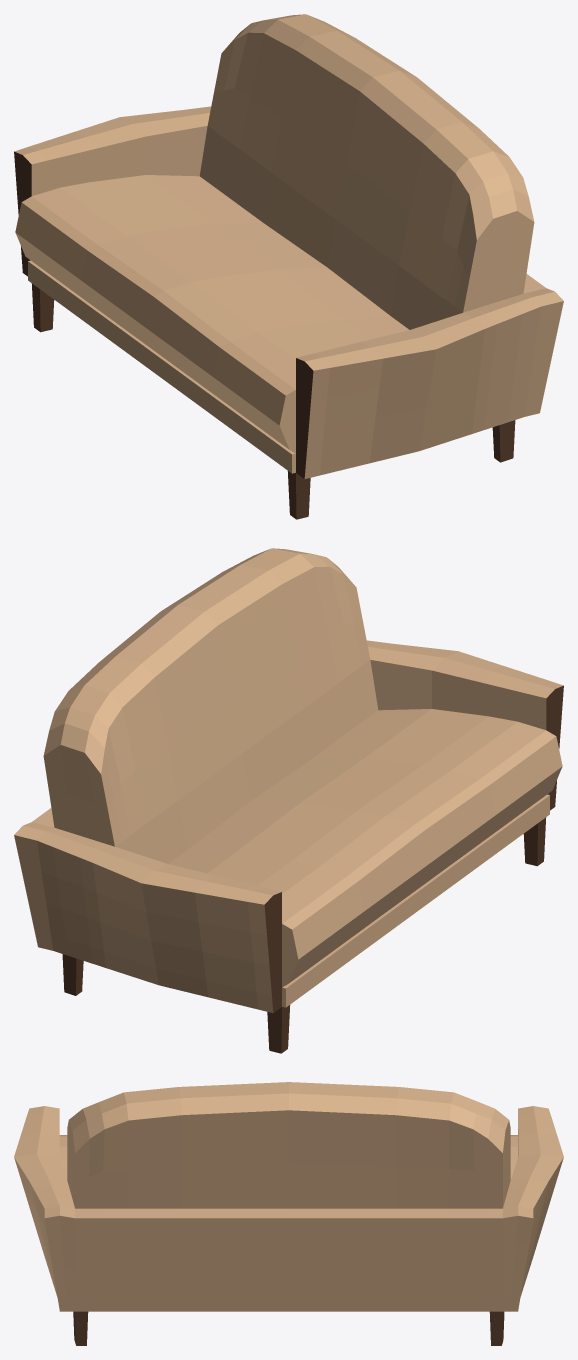
Rendered from 70sCouch.fbx.
3 renders of one model, top to bottom at view 1: azimuth 30°, elevation 25°; view 2: azimuth 150°, elevation 25°; view 3: azimuth 270°, elevation 25°, orthographic. The views are drawn at different scales.
Visible parts, largest first — view 1: Plane; view 2: Plane; view 3: Plane.
Boxes of the visible parts, x1=… form: Plane: x1=14, y1=14, x2=563, y2=519; Plane: x1=14, y1=548, x2=563, y2=1053; Plane: x1=14, y1=1082, x2=563, y2=1345.
Size of the model in its own units: 90.34 by 92.55 by 180.
